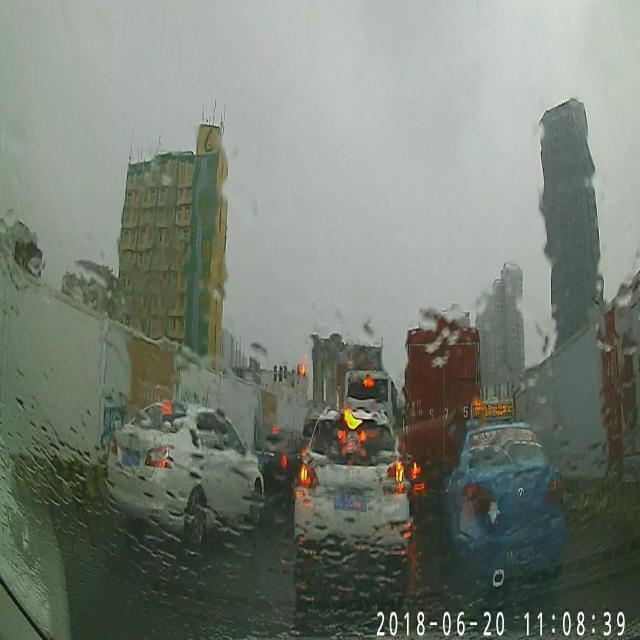car: (100, 401, 264, 542), (294, 408, 408, 579), (443, 424, 564, 580), (260, 424, 306, 493)
